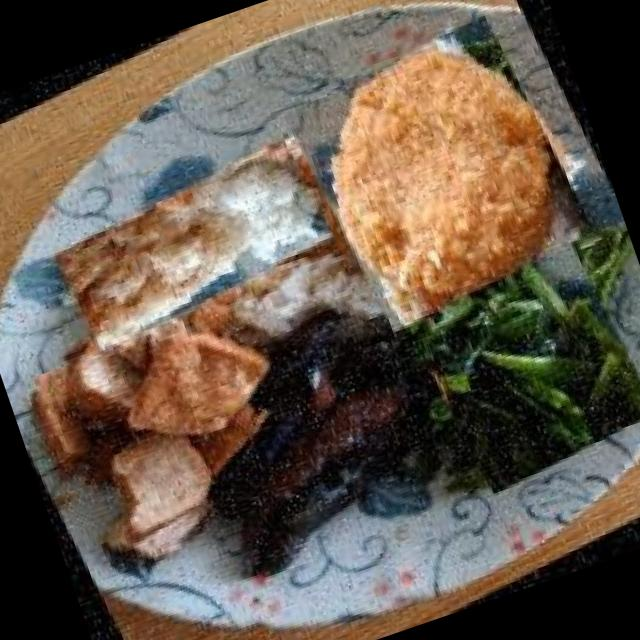fried_chicken: (272, 5, 607, 341)
rice: (42, 131, 347, 357)
water_spinach: (382, 210, 640, 500)
